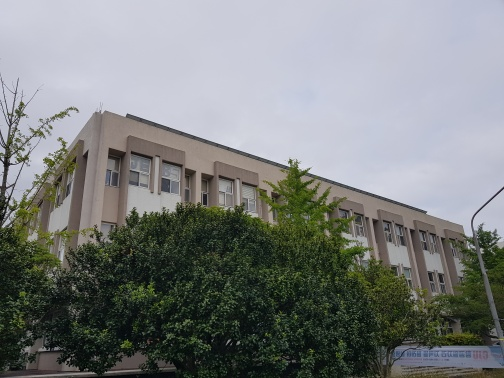Main Building of University: (73, 97, 503, 378)
